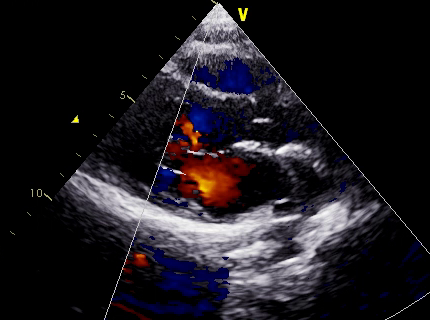MR: (147, 135, 235, 226)
